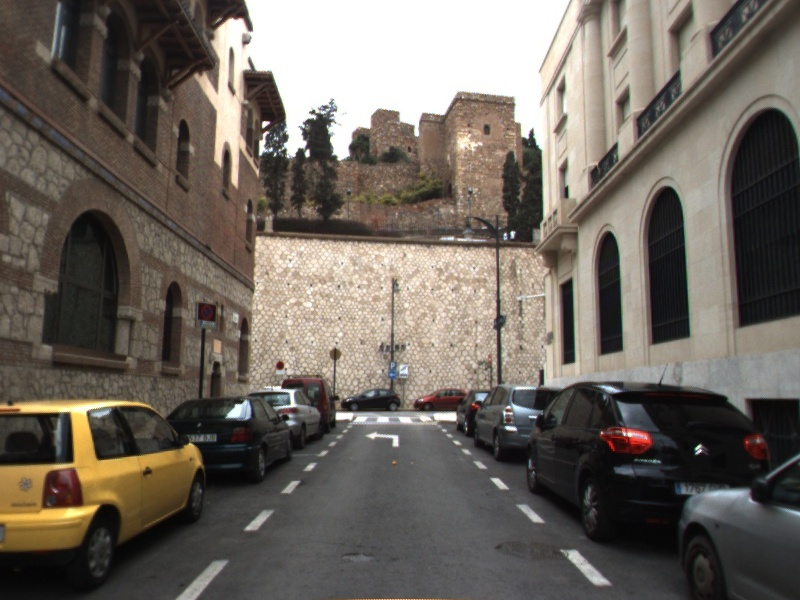LEFT: (364, 429, 401, 449)
